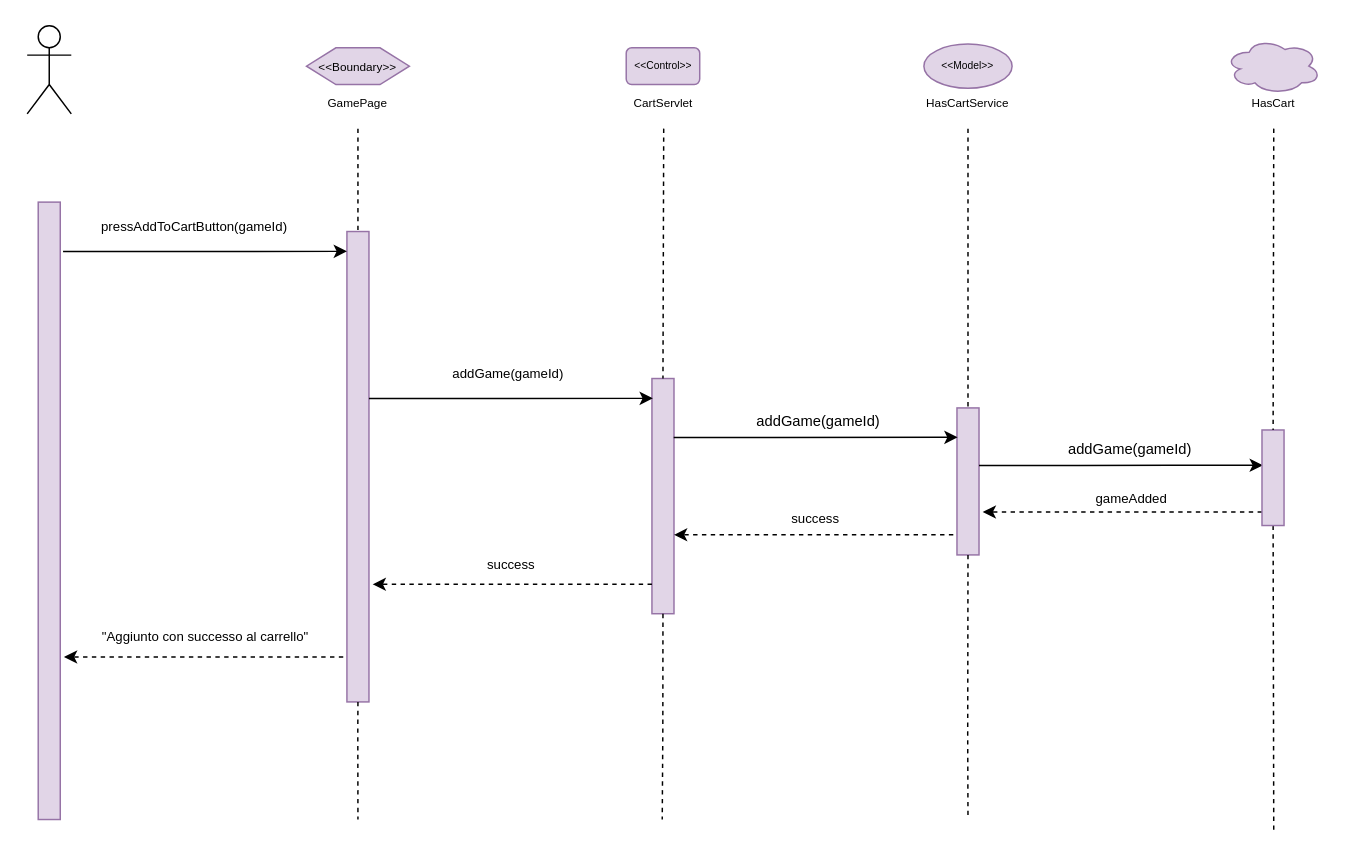
Image size: 1347x861. Some labels were removed from this diagram. Each missing label, with the box of its shape:
<<Entity>>: (1224, 37, 1321, 94)
Marco: (26, 24, 71, 114)
